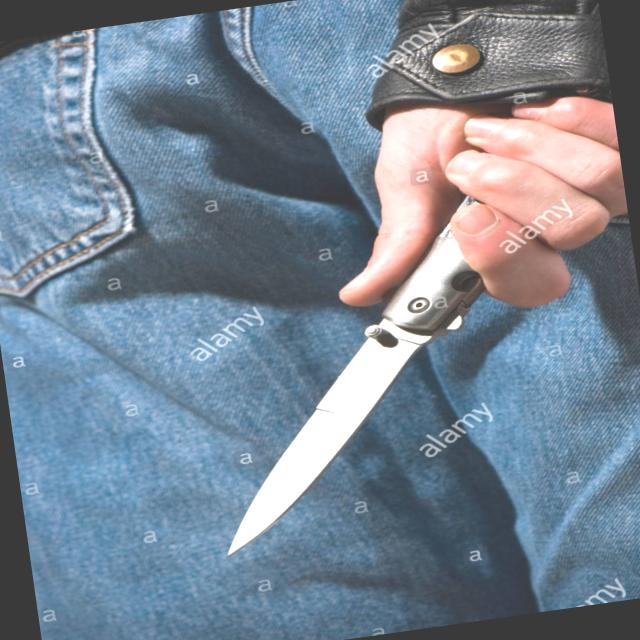knife: (158, 120, 639, 570)
